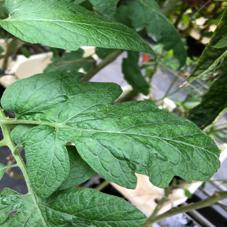Healthy: (2, 73, 226, 201), (0, 0, 158, 56)
